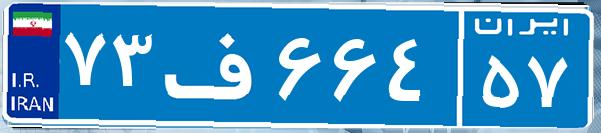3: (110, 28, 158, 105)
4: (385, 28, 445, 110)
5: (475, 38, 525, 113)
6: (273, 28, 330, 110), (330, 28, 385, 110)
7: (57, 26, 110, 107), (525, 38, 570, 115)
ف: (158, 15, 273, 115)
